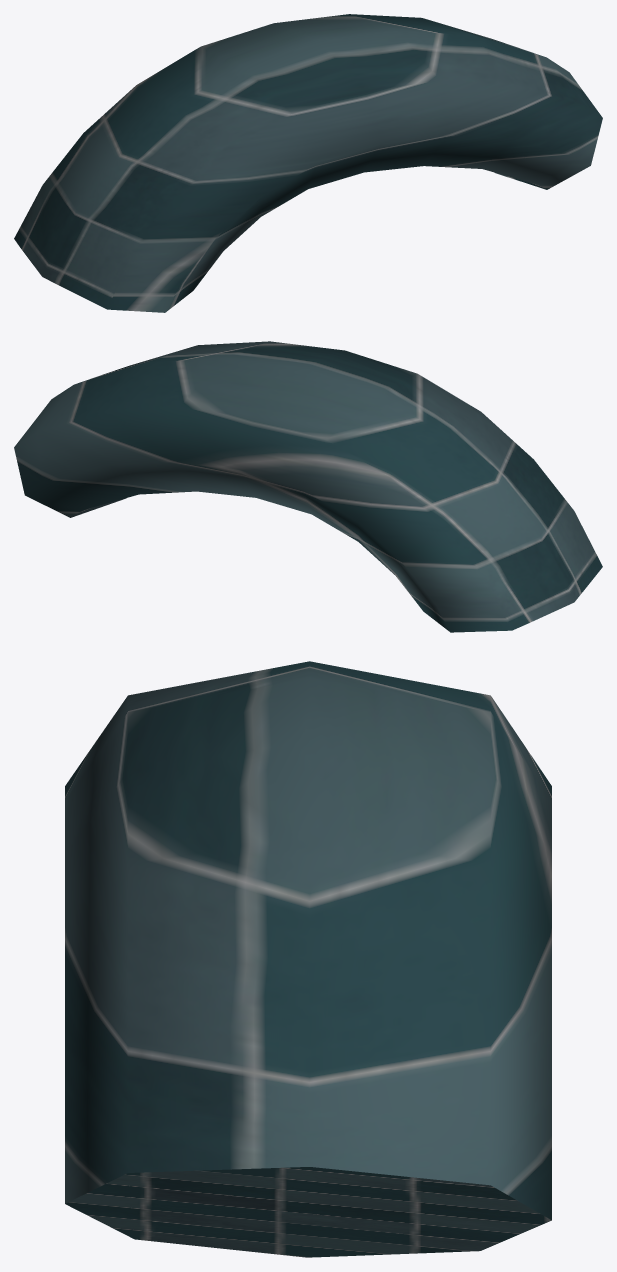
The picture shows the model from 3 angles, top to bottom: view 1: azimuth 30°, elevation 25°; view 2: azimuth 150°, elevation 25°; view 3: azimuth 270°, elevation 25°; orthographic projection. The views are drawn at different scales.
Parts seen in each view (by area): view 1: Cylinder_cell.011; view 2: Cylinder_cell.011; view 3: Cylinder_cell.011.
Boxes of the visible parts, box(x1,y1,x2,y2) form: Cylinder_cell.011: box(14, 14, 602, 312); Cylinder_cell.011: box(14, 341, 602, 632); Cylinder_cell.011: box(65, 661, 551, 1257).
Size of the model in its own units: 0.7542 by 0.2406 by 0.3042.
Materials: 1 (1 with a texture image).
